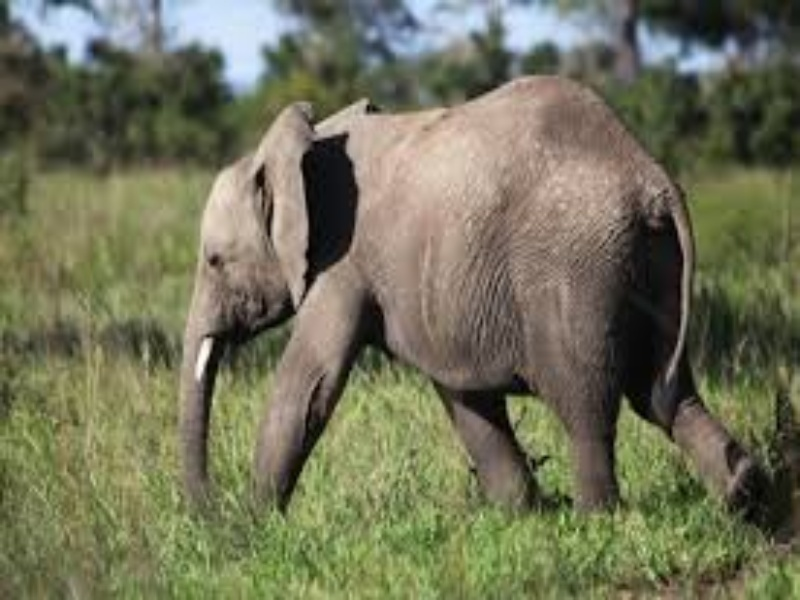elephant: (150, 53, 770, 530)
